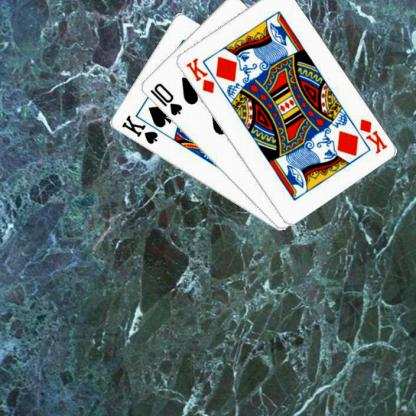10S: (147, 80, 183, 117)
KD: (183, 55, 216, 95), (356, 116, 388, 155)
KS: (119, 113, 159, 146)
